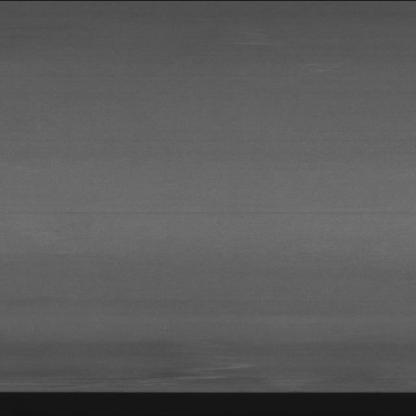silk_spot: (51, 356, 260, 388)
